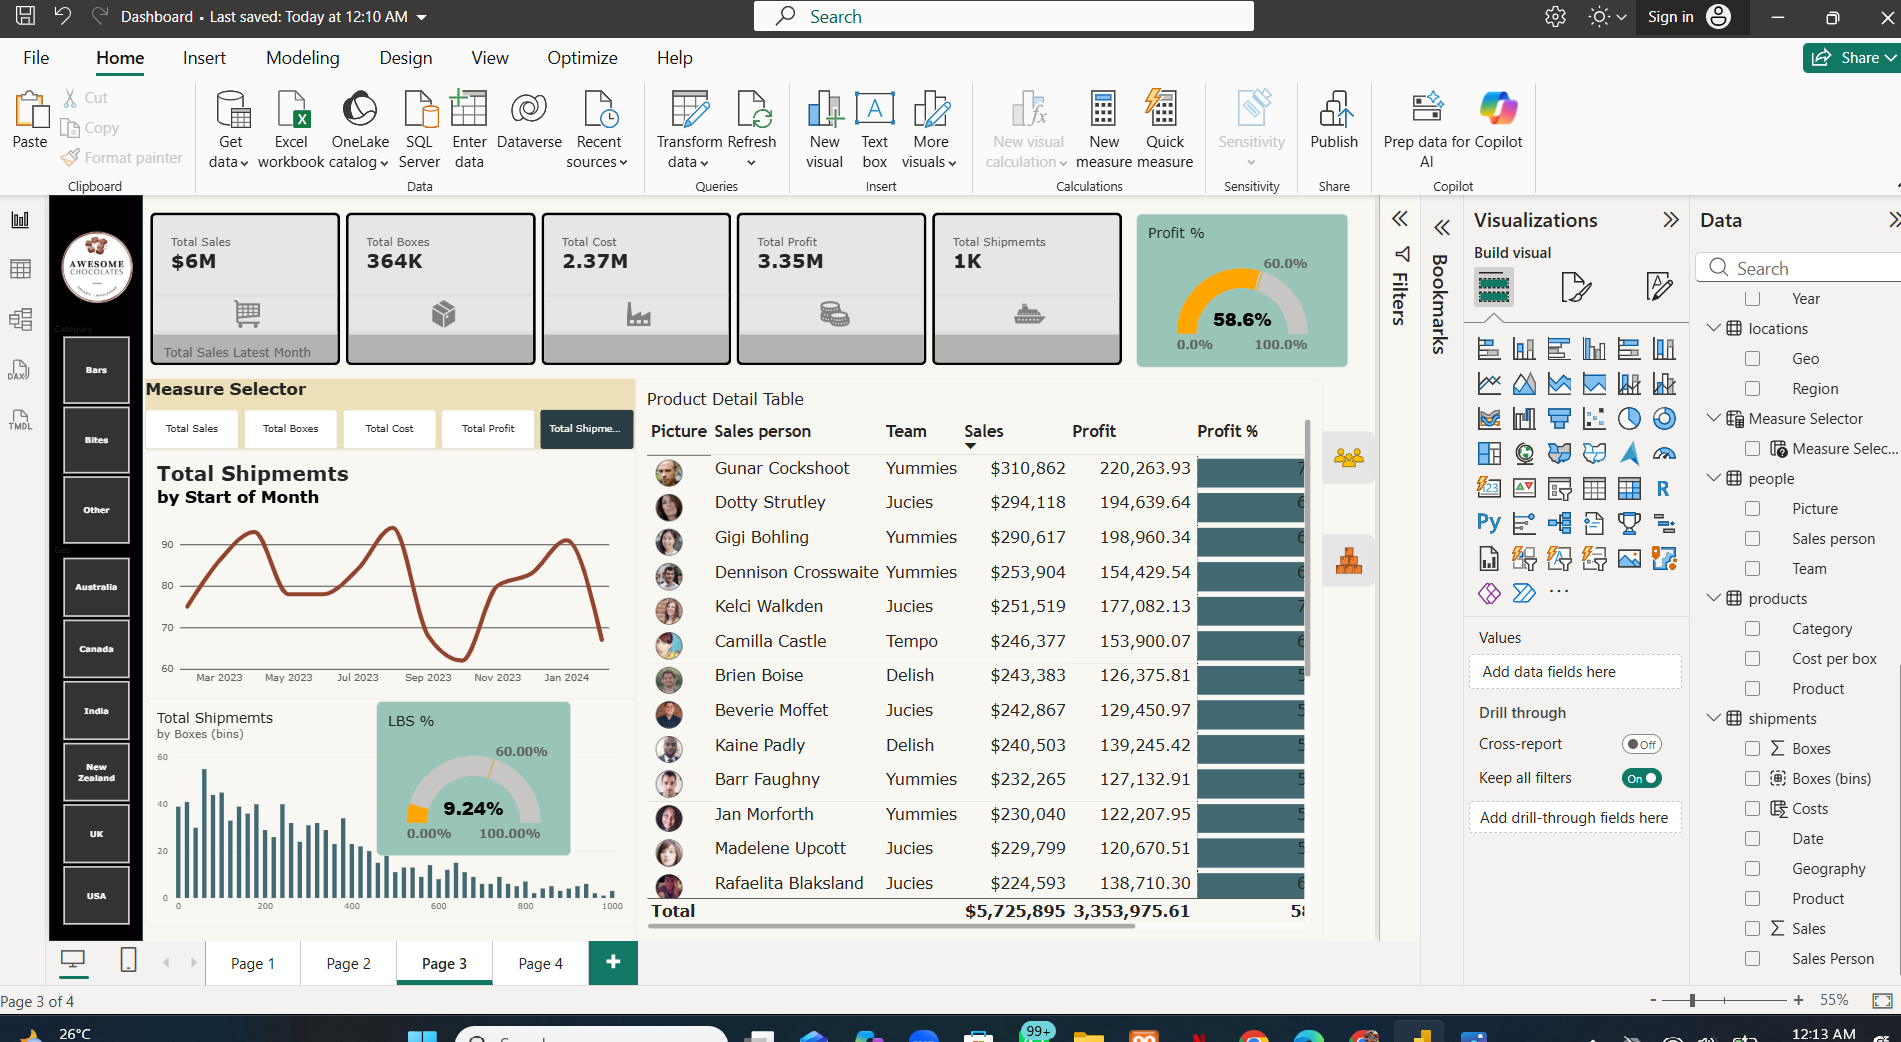

This screenshot's page, from the dashboard's own definition file:
{"tool":"powerbi","page":{"name":"Page 3","canvas":[1920,1080],"ordinal":2},"visuals":[{"type":"shape","box":[0,0,135.7,1080.4],"z":0},{"type":"cardVisual","fields":{"Data":["_Measures.Total Sales","_Measures.Total Boxes","_Measures.Total Cost","_Measures.Total Profit","_Measures.Total Shipmemts"]},"box":[147.1,26.1,1407.6,221.6],"z":1000},{"type":"gauge","fields":{"Y":["_Measures.Profit %"]},"box":[1575.2,27.9,306.7,222.3],"z":2000},{"type":"lineChart","fields":{"Category":["calendar.Start of Month"],"Y":["_Measures.Total Shipmemts"]},"box":[139.6,368.7,711.3,361.2],"z":3000},{"type":"advancedSlicerVisual","fields":{"Values":["Measure Selector.Measure Selector"]},"box":[139.6,266.3,709.4,102.4],"z":4000},{"type":"columnChart","fields":{"Category":["shipments.Boxes (bins)"],"Y":["_Measures.Total Shipmemts"]},"box":[139.6,729.9,711.3,329.6],"z":5000},{"type":"gauge","fields":{"Y":["_Measures.LBS %"]},"box":[473.4,732.8,282,224.4],"z":6000},{"type":"tableEx","title":"Product Detail Table","fields":{"Values":["people.Picture","people.Sales person","people.Team","_Measures.Total Sales","_Measures.Total Profit","_Measures.Profit %","_Measures.Profit Target Indicator"]},"box":[848.7,266,995.3,814.3],"z":7000},{"type":"image","title":"people icon","box":[1843.3,335.1,76.3,91.2],"z":8000},{"type":"image","title":"Product Icon","box":[1843.3,469.2,76.3,121],"z":9000},{"type":"image","box":[18.1,43.4,103.2,123.1],"z":11000},{"type":"slicer","fields":{"Values":["locations.Geo"]},"box":[0,506.7,135.7,551.9],"z":12000},{"type":"slicer","fields":{"Values":["products.Category"]},"box":[0,186.4,135.7,320.3],"z":12001}]}

Visuals, with their boxes on the page's 1920x1080 design canvas (x1, y1, x2, y2). These are canvas units, not pixel positions in the 1901x1042 screenshot, which may show the page scaled, cropped or inside an application window:
shape: {"left": 0, "top": 0, "right": 136, "bottom": 1080}
cardVisual - _Measures.Total Sales x _Measures.Total Boxes: {"left": 147, "top": 26, "right": 1555, "bottom": 248}
gauge - _Measures.Profit %: {"left": 1575, "top": 28, "right": 1882, "bottom": 250}
lineChart - calendar.Start of Month x _Measures.Total Shipmemts: {"left": 140, "top": 369, "right": 851, "bottom": 730}
advancedSlicerVisual - Measure Selector.Measure Selector: {"left": 140, "top": 266, "right": 849, "bottom": 369}
columnChart - shipments.Boxes (bins) x _Measures.Total Shipmemts: {"left": 140, "top": 730, "right": 851, "bottom": 1060}
gauge - _Measures.LBS %: {"left": 473, "top": 733, "right": 755, "bottom": 957}
"Product Detail Table" tableEx: {"left": 849, "top": 266, "right": 1844, "bottom": 1080}
"people icon" image: {"left": 1843, "top": 335, "right": 1920, "bottom": 426}
"Product Icon" image: {"left": 1843, "top": 469, "right": 1920, "bottom": 590}
image: {"left": 18, "top": 43, "right": 121, "bottom": 166}
slicer - locations.Geo: {"left": 0, "top": 507, "right": 136, "bottom": 1059}
slicer - products.Category: {"left": 0, "top": 186, "right": 136, "bottom": 507}
